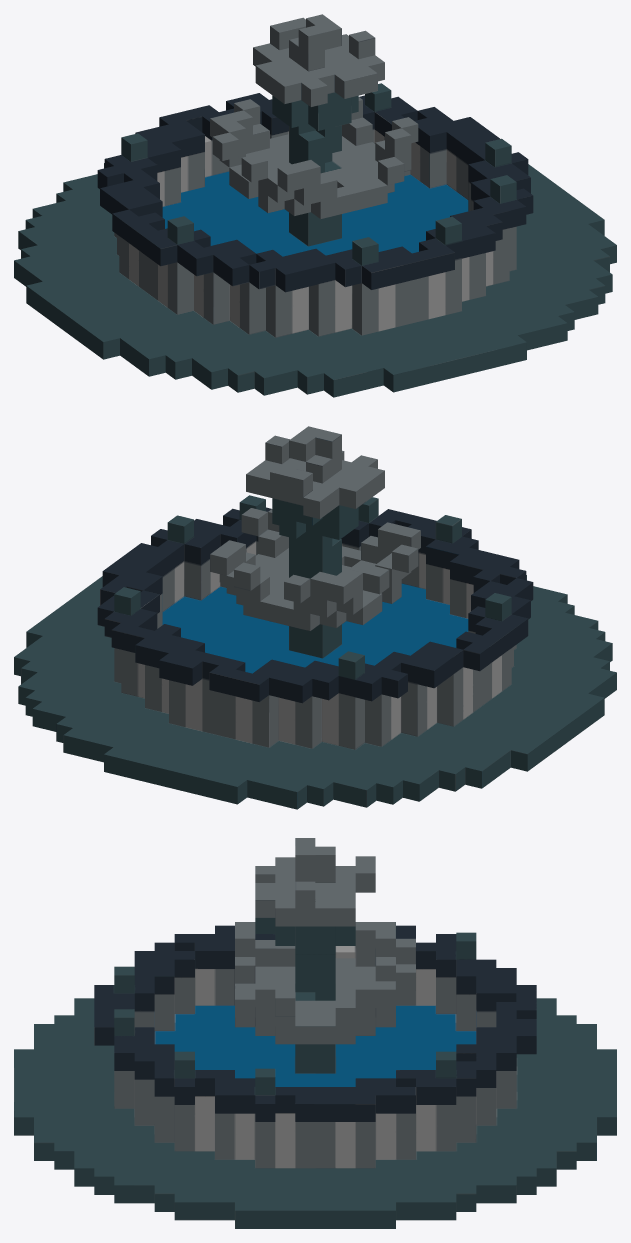
The model's file is fountain_damaged.glb.
3 views of the same model, one above another, from view 1: azimuth 30°, elevation 25°; view 2: azimuth 150°, elevation 25°; view 3: azimuth 270°, elevation 25° (orthographic). The views are drawn at different scales.
Parts seen in each view (by area): view 1: fountain_damaged; view 2: fountain_damaged; view 3: fountain_damaged.
Part boxes in pixels (<box>): fountain_damaged: <box>14,14,616,397</box>; fountain_damaged: <box>14,426,616,809</box>; fountain_damaged: <box>14,838,616,1228</box>.
Bounding box in the file's own units: 3 × 1.4 × 3.
1 material, 1 textured.
